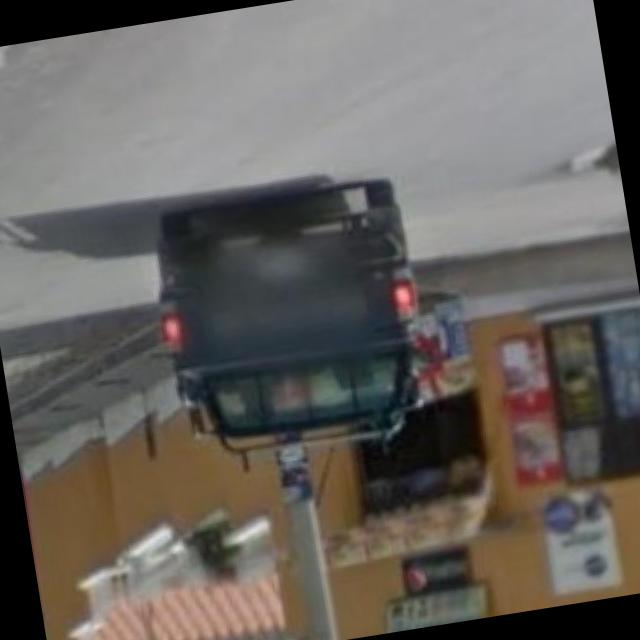car: (158, 191, 442, 457)
